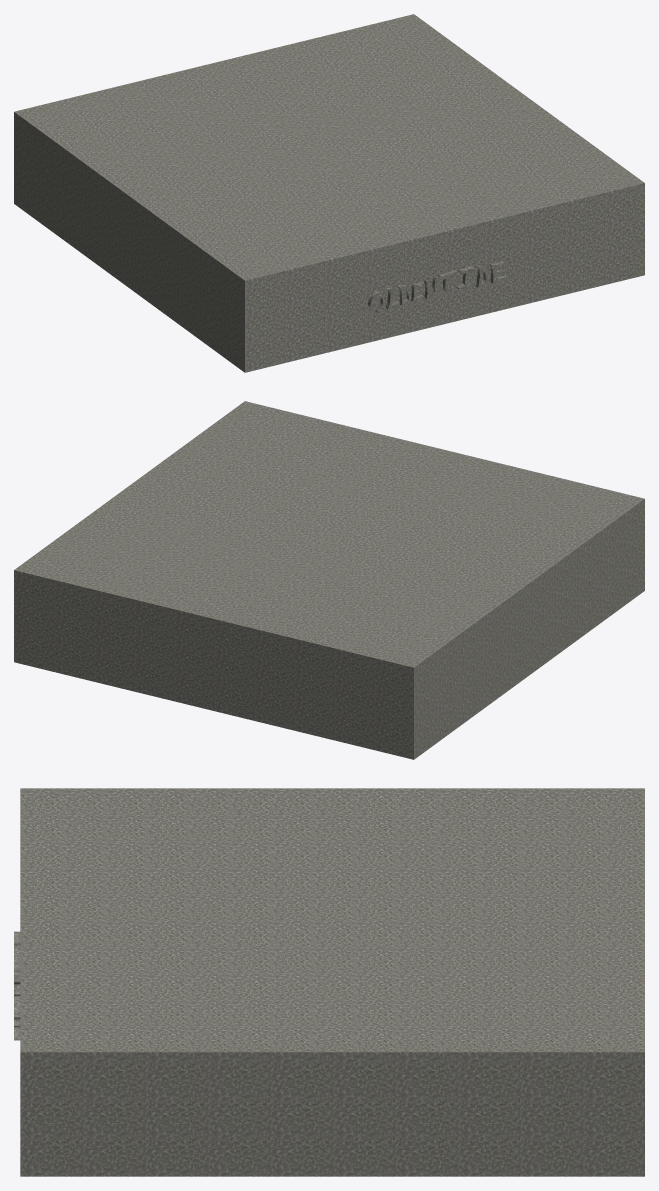
Rendered from Login_Screen.fbx.
3 views of the same model, one above another, from view 1: azimuth 30°, elevation 25°; view 2: azimuth 150°, elevation 25°; view 3: azimuth 270°, elevation 25° (orthographic). The views are drawn at different scales.
Visible parts, largest first — view 1: ID23, ID10; view 2: ID23, ID10; view 3: ID23, ID10.
Boxes of the visible parts, <box> form: ID23: <box>20,17,638,277</box>; ID10: <box>14,14,644,372</box>; ID23: <box>20,404,638,664</box>; ID10: <box>14,401,644,759</box>; ID23: <box>26,791,638,1049</box>; ID10: <box>20,788,644,1176</box>.
Size of the model in its own units: 787 by 795 by 173.
2 materials, 1 textured.
